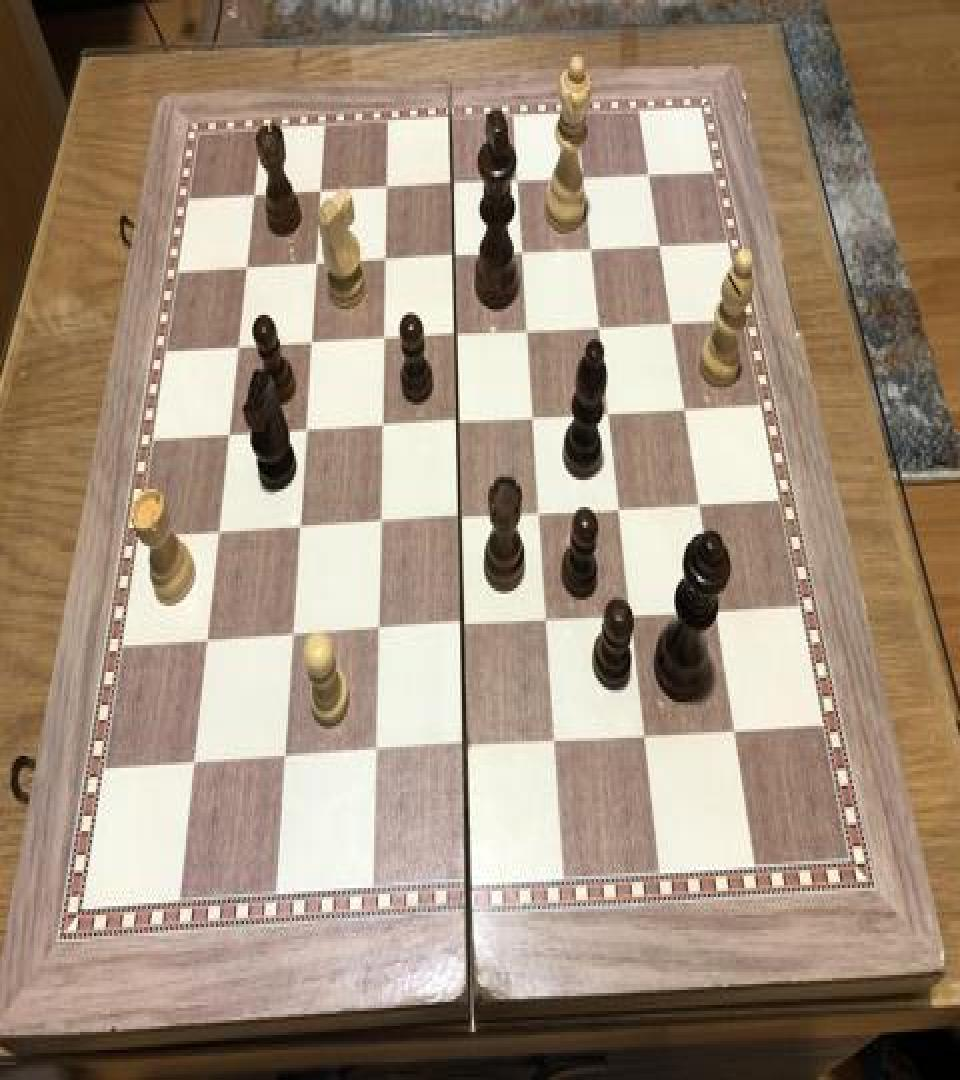xcorner: (285, 514, 309, 551), (702, 595, 726, 632), (618, 601, 642, 638), (363, 616, 387, 653), (278, 622, 302, 659), (635, 159, 659, 195), (569, 162, 593, 198), (503, 166, 527, 202), (438, 171, 462, 207), (372, 174, 396, 210), (306, 178, 330, 214), (240, 182, 264, 218), (646, 230, 670, 266), (577, 234, 601, 270), (508, 238, 532, 274), (439, 242, 463, 278), (370, 246, 394, 282), (301, 250, 325, 286), (232, 255, 256, 291), (658, 308, 682, 344), (586, 312, 610, 348), (513, 316, 537, 352), (441, 321, 465, 357), (369, 326, 393, 362), (296, 330, 320, 366), (224, 334, 248, 370), (671, 393, 695, 429), (595, 398, 619, 434), (519, 404, 543, 440), (443, 408, 467, 444), (291, 417, 315, 453), (214, 422, 238, 458), (686, 489, 710, 525), (606, 494, 630, 530), (526, 500, 550, 536), (445, 504, 469, 540), (365, 508, 389, 544), (204, 519, 228, 555), (533, 606, 557, 642), (448, 612, 472, 648), (193, 627, 217, 663), (721, 716, 745, 752), (631, 722, 655, 758), (541, 726, 565, 762), (451, 732, 475, 768), (360, 738, 384, 774), (270, 744, 294, 780), (180, 750, 204, 786), (367, 413, 391, 448)
